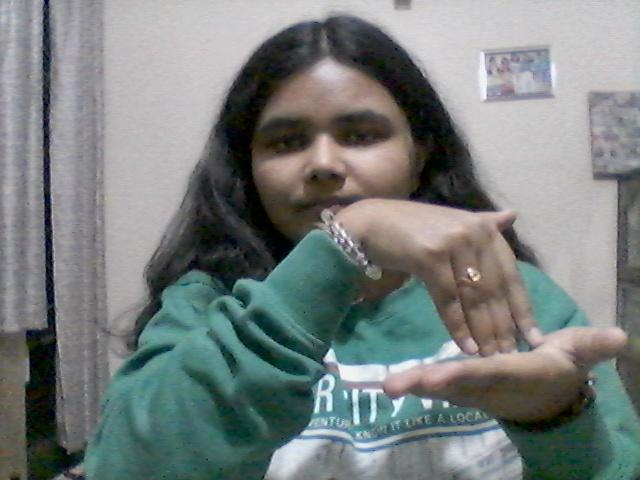repeat: (330, 196, 631, 420)
